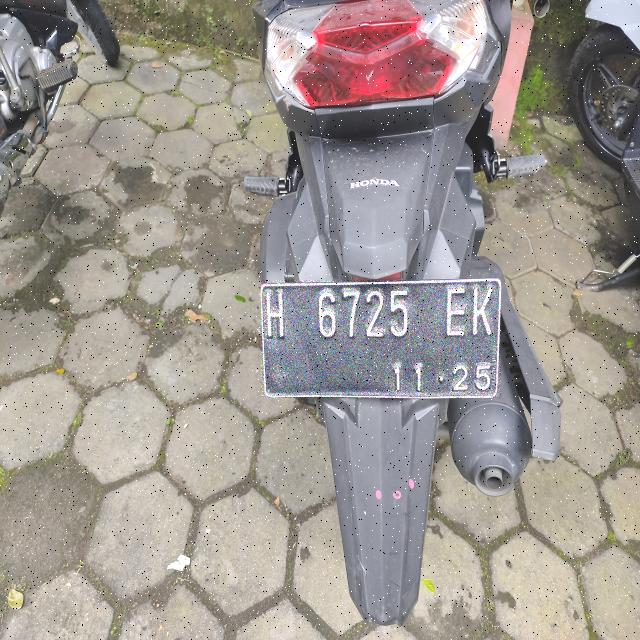plate: (262, 280, 500, 397)
